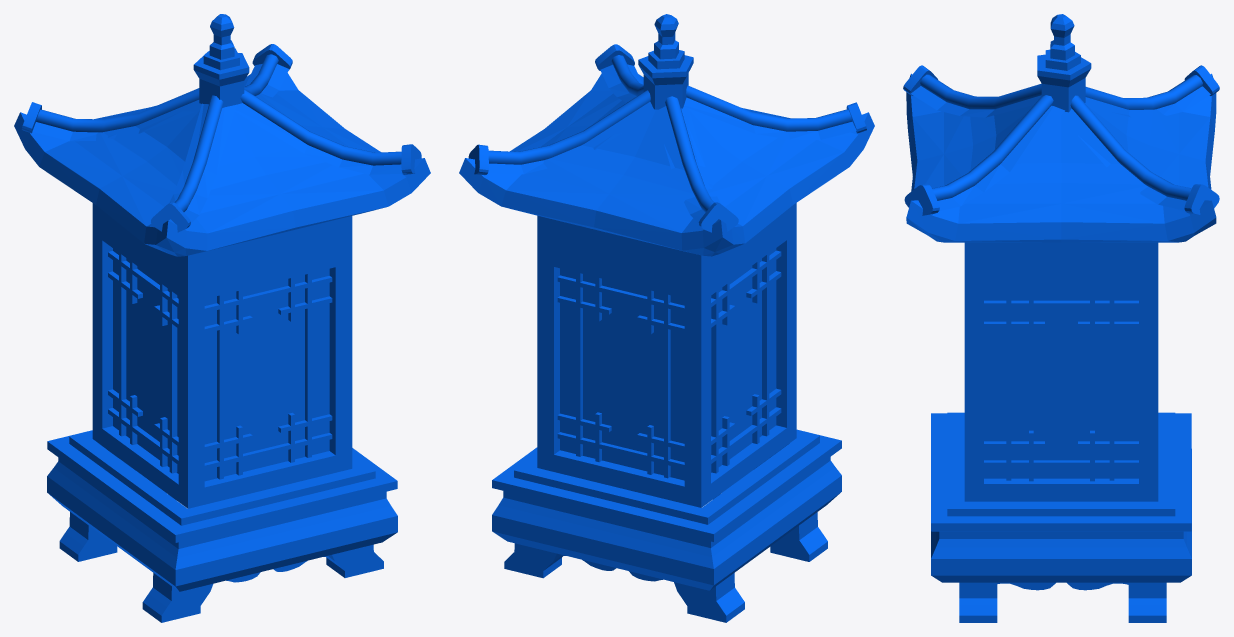
Rendered from LampModel.FBX.
3 renders of one model, left to right at view 1: azimuth 30°, elevation 25°; view 2: azimuth 150°, elevation 25°; view 3: azimuth 270°, elevation 25°, orthographic.
Visible parts, largest first — view 1: Cylinder001; view 2: Cylinder001; view 3: Cylinder001.
Boxes of the visible parts, box(x1,y1,x2,y2) form: Cylinder001: box(14, 14, 430, 622); Cylinder001: box(459, 14, 874, 622); Cylinder001: box(903, 14, 1219, 622).
Size of the model in its own units: 40.99 by 78.27 by 40.72.
